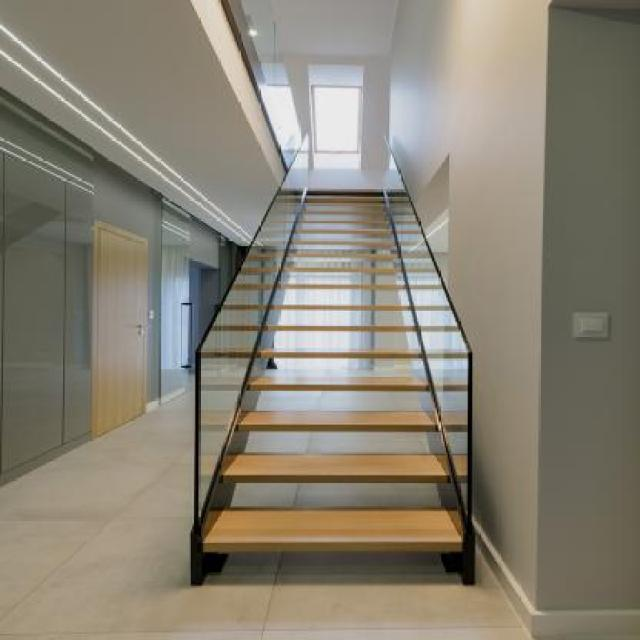stair: (200, 124, 534, 582)
